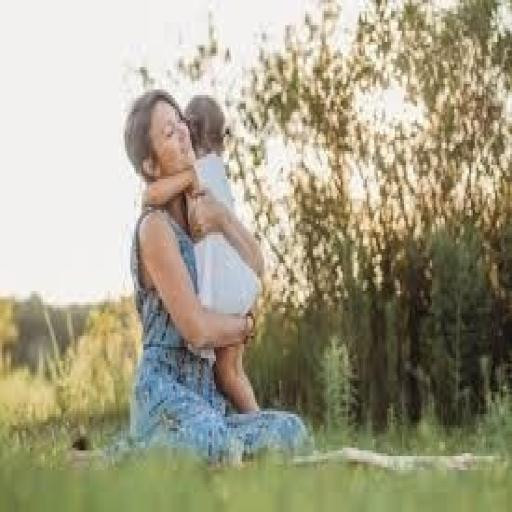hugging: (121, 84, 315, 467)
